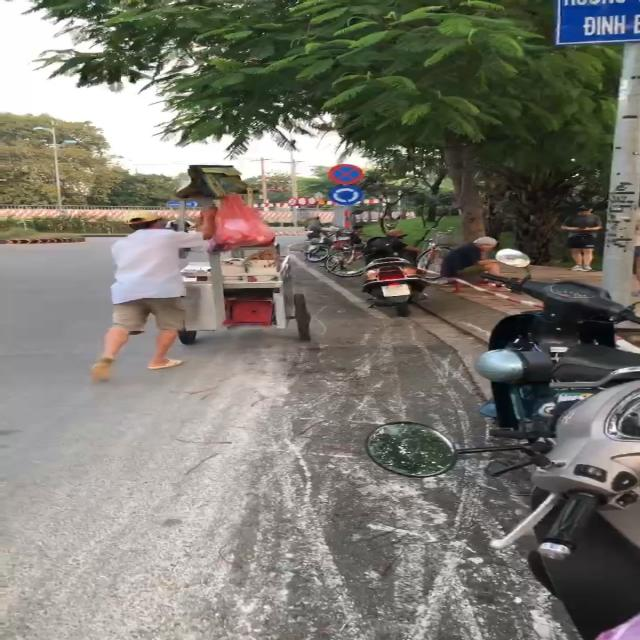Bien bao cam dung xe va do xe: (325, 162, 367, 184)
Bien bao noi giao nhau chay theo vong xuyen: (324, 185, 362, 207)
